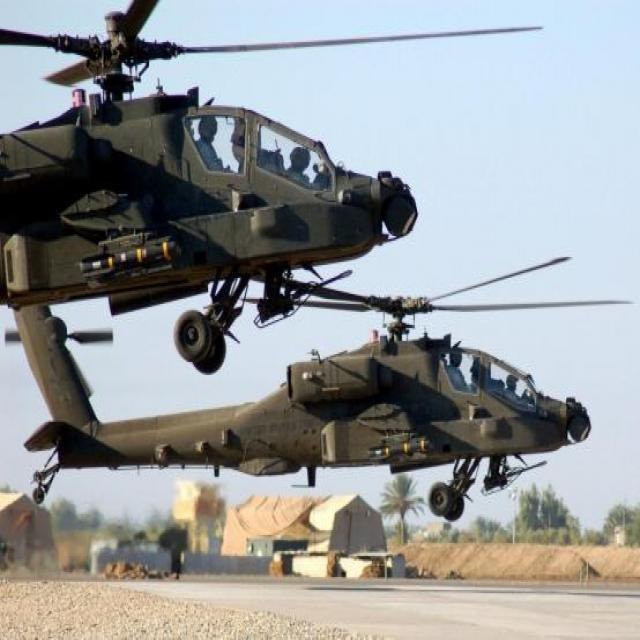MIL_HELO: (0, 0, 558, 367), (14, 225, 631, 532)
